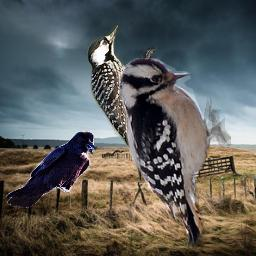Crow: (6, 131, 95, 208)
Woodpecker: (119, 58, 231, 249), (87, 25, 160, 183)
